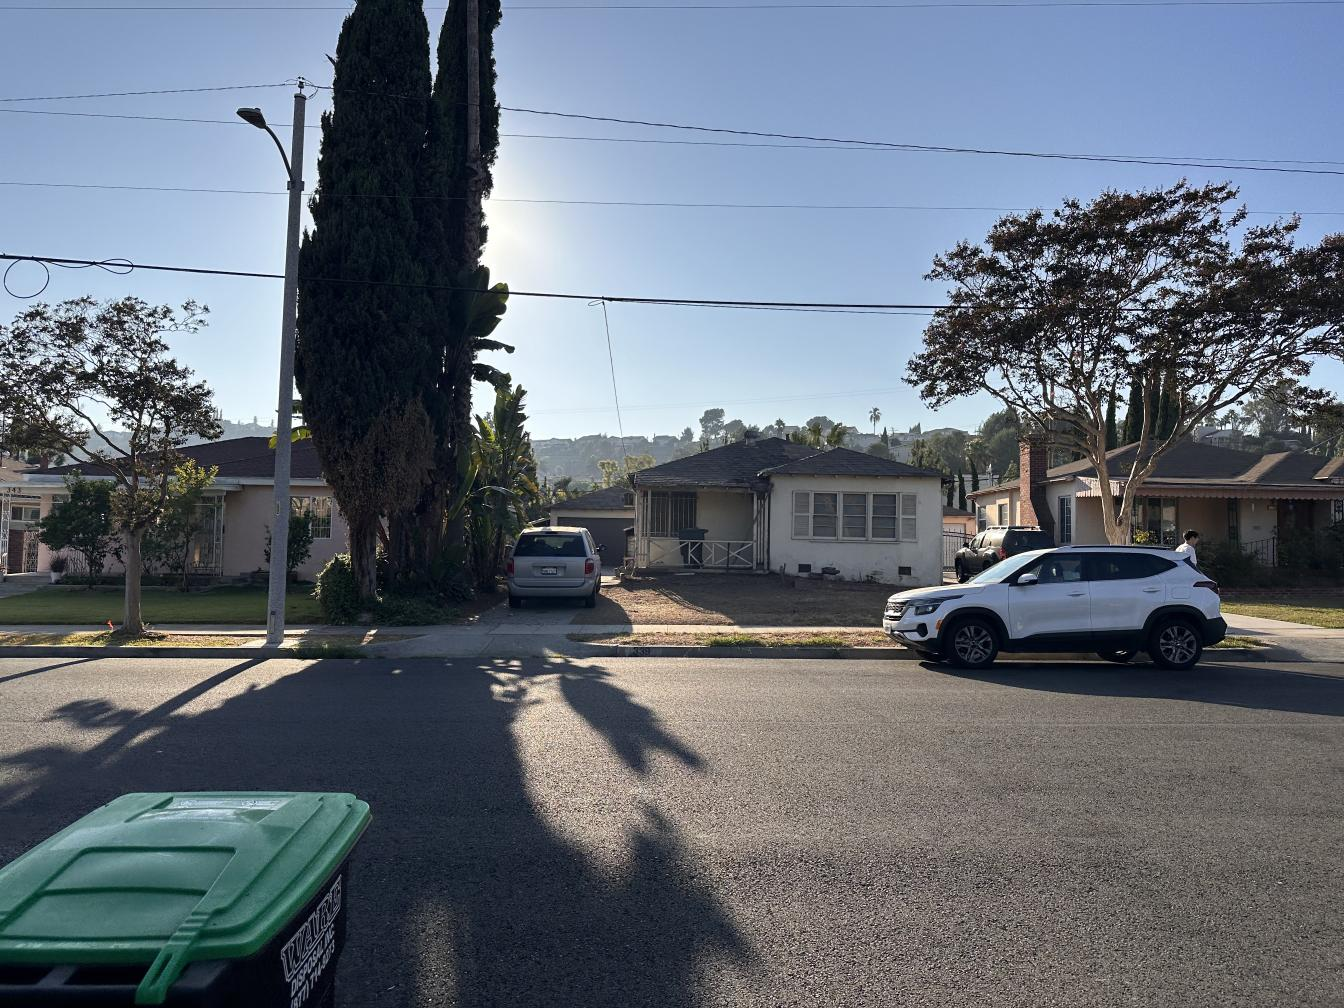curbs-laRr: (596, 641, 889, 662), (4, 644, 361, 661)
